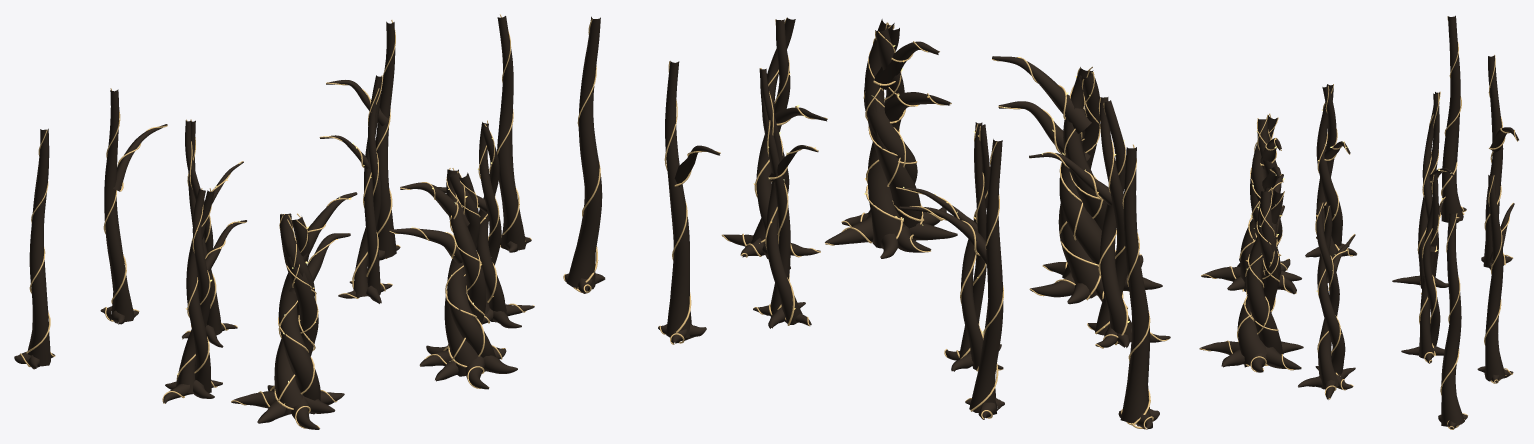
Rendered from reliquary-trees.glb.
3 renders of one model, left to right at view 1: azimuth 30°, elevation 25°; view 2: azimuth 150°, elevation 25°; view 3: azimuth 270°, elevation 25°, orthographic. The views are drawn at different scales.
Visible parts, largest first — view 1: bark, vines; view 2: bark, vines; view 3: bark, vines.
Boxes of the visible parts, bbox=[...] form: bark: bbox=[14, 16, 534, 429]; vines: bbox=[20, 14, 534, 428]; bark: bbox=[564, 16, 1170, 429]; vines: bbox=[563, 18, 1169, 429]; bark: bbox=[1199, 15, 1518, 428]; vines: bbox=[1200, 16, 1517, 429].
Size of the model in its own units: 16.23 by 7.29 by 10.01.
